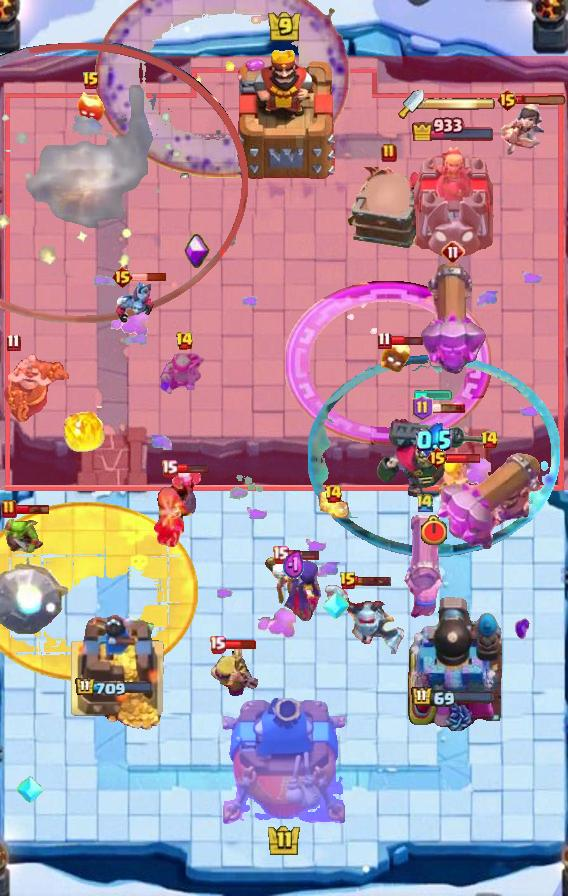archer: (439, 455, 469, 499)
arrows: (207, 647, 258, 699)
axe: (264, 553, 324, 621)
bar: (409, 142, 497, 256)
battle-healer: (402, 515, 448, 619)
bomber: (380, 342, 412, 374), (77, 92, 105, 124)
dart-goblin: (348, 167, 433, 249)
electro-spirit: (416, 422, 452, 458), (283, 549, 305, 582)
elixir: (419, 515, 449, 547)
elixir-collector: (0, 354, 72, 430)
elixir-golem-small: (321, 582, 407, 660)
emote: (516, 94, 568, 105), (389, 333, 424, 346), (356, 575, 393, 587), (430, 402, 466, 414), (15, 503, 51, 515), (285, 549, 319, 561), (223, 638, 257, 650), (446, 453, 481, 464), (174, 462, 209, 473), (133, 272, 168, 282)
furnace: (435, 450, 543, 550), (419, 259, 487, 379)
giant-snowball: (160, 348, 208, 396)
ice-spirit: (413, 388, 455, 400)
ice-spirit-evolution: (316, 492, 350, 524)
inferno-tower: (375, 413, 493, 499)
king-tower: (223, 698, 345, 826), (229, 43, 339, 181)
king-tower-bar: (424, 97, 496, 111)
knight-evolution: (285, 281, 492, 445)
pad_0: (308, 354, 560, 558)
pad_2: (321, 591, 351, 621), (15, 775, 45, 805)
phoenix-egg: (0, 502, 198, 681)
queen-tower: (62, 613, 165, 731)
rascal-boy: (153, 465, 203, 551)
rocket: (94, 0, 350, 178)
royal-delivery: (112, 281, 156, 327)
royal-ghost: (0, 43, 248, 323)
selected: (412, 114, 497, 141), (411, 686, 495, 710), (74, 677, 154, 699)
skeleton-dragon: (496, 101, 546, 157)
skeleton-king-skill: (184, 233, 210, 269)
text: (441, 240, 465, 264), (496, 88, 519, 112), (111, 265, 134, 289), (427, 446, 450, 470), (412, 395, 433, 421), (415, 491, 435, 513), (480, 430, 500, 450), (175, 331, 194, 351), (324, 484, 343, 504), (82, 71, 100, 91), (339, 571, 357, 591), (209, 635, 227, 653), (162, 458, 179, 477), (272, 545, 289, 564), (381, 143, 397, 163), (1, 499, 17, 519), (376, 330, 391, 349), (7, 332, 21, 351)
tower-bar: (404, 593, 502, 731)
valkyrie: (59, 399, 111, 455)
x-bow: (0, 556, 70, 636)
zap: (0, 513, 44, 555)
